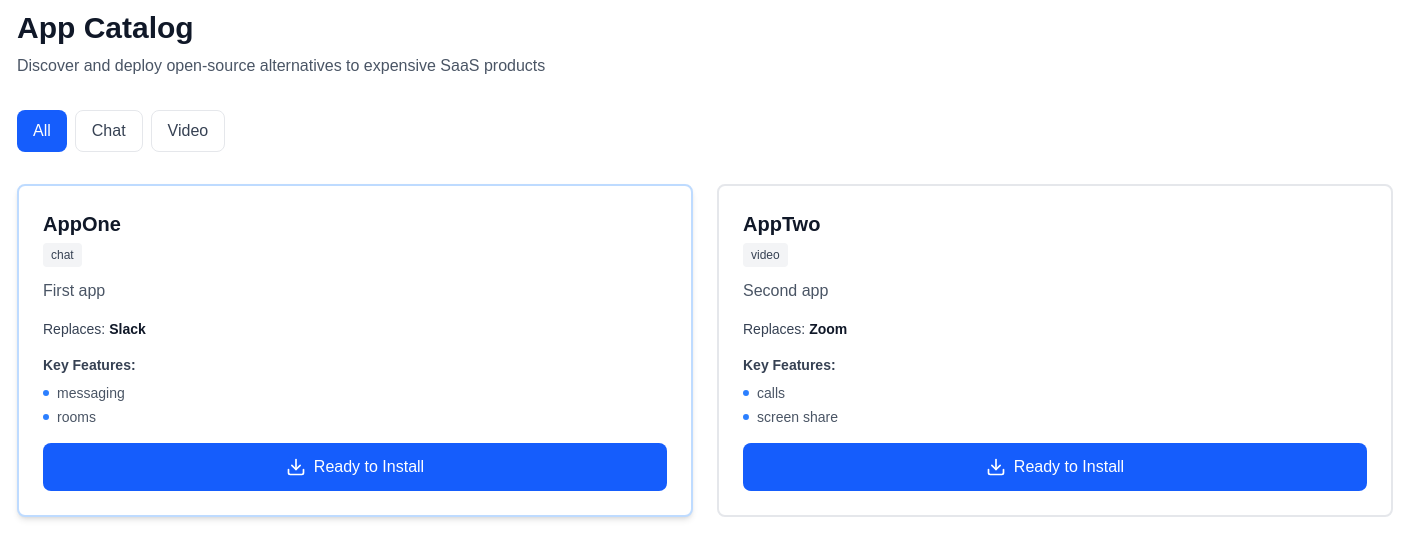
CatalogPage › renders apps, filters by category
Expected: the heading "AppOne" is shown, [43,210,121,238]
Expected: the heading "AppTwo" is shown, [743,210,820,238]
Category buttons: All + chat + video
Click the button "Chat" at (109, 131), box [75,110,143,152]
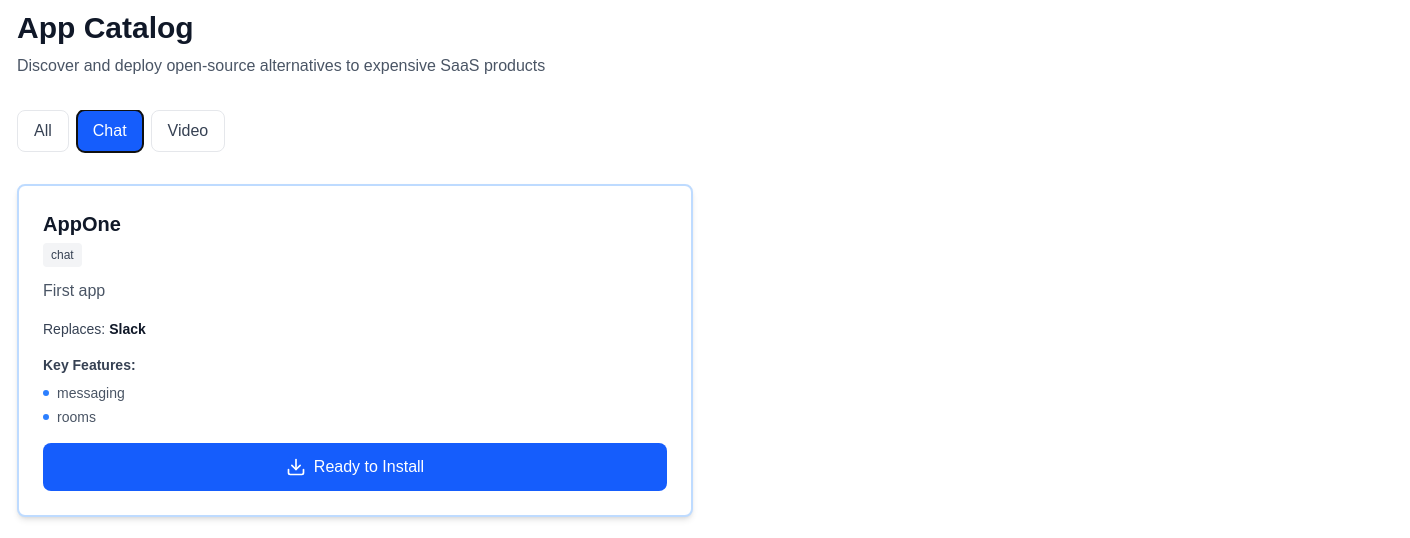
Expected: the heading "AppOne" is shown, [43,210,121,238]
Now the heading "AppTwo" is gone
